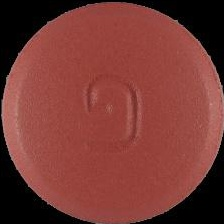42254-150: (0, 0, 224, 224)
